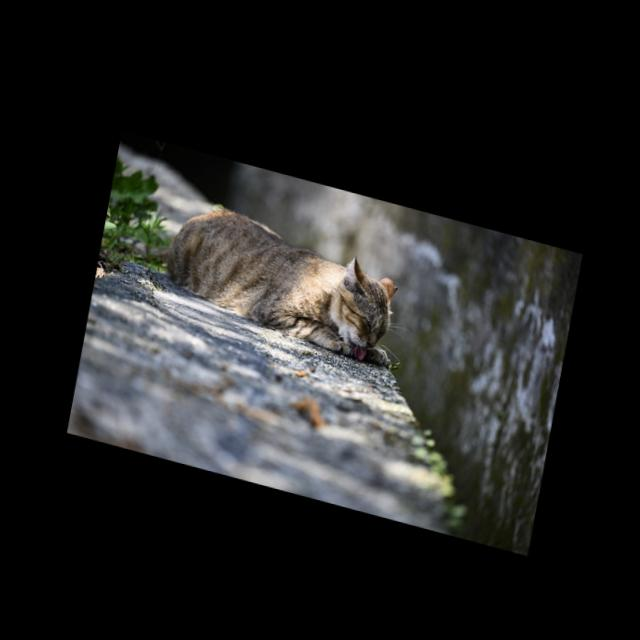animals: (159, 195, 409, 360)
